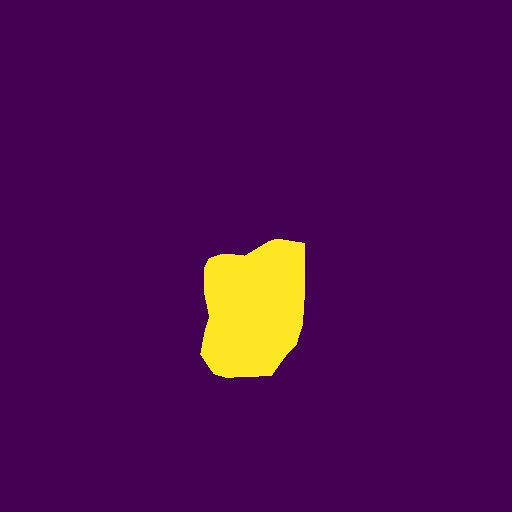Gliomia_tumour: (200, 239, 305, 378)
